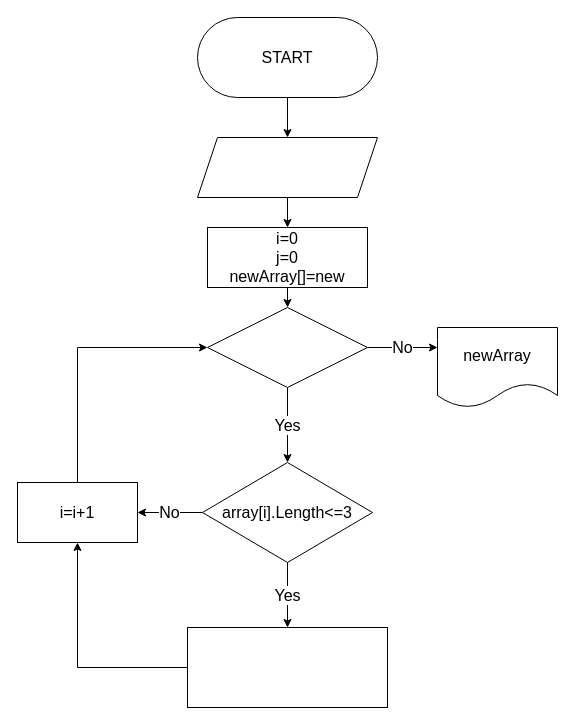
This 575x725 diagram has some shape labels left out. Here are the shapes that lost their labels. From the top down, the box of each, then its label:
(196, 136, 378, 198): array[size]
(206, 306, 368, 388): i<size
(186, 626, 388, 708): newArray[j]=array[i] j=j+1
